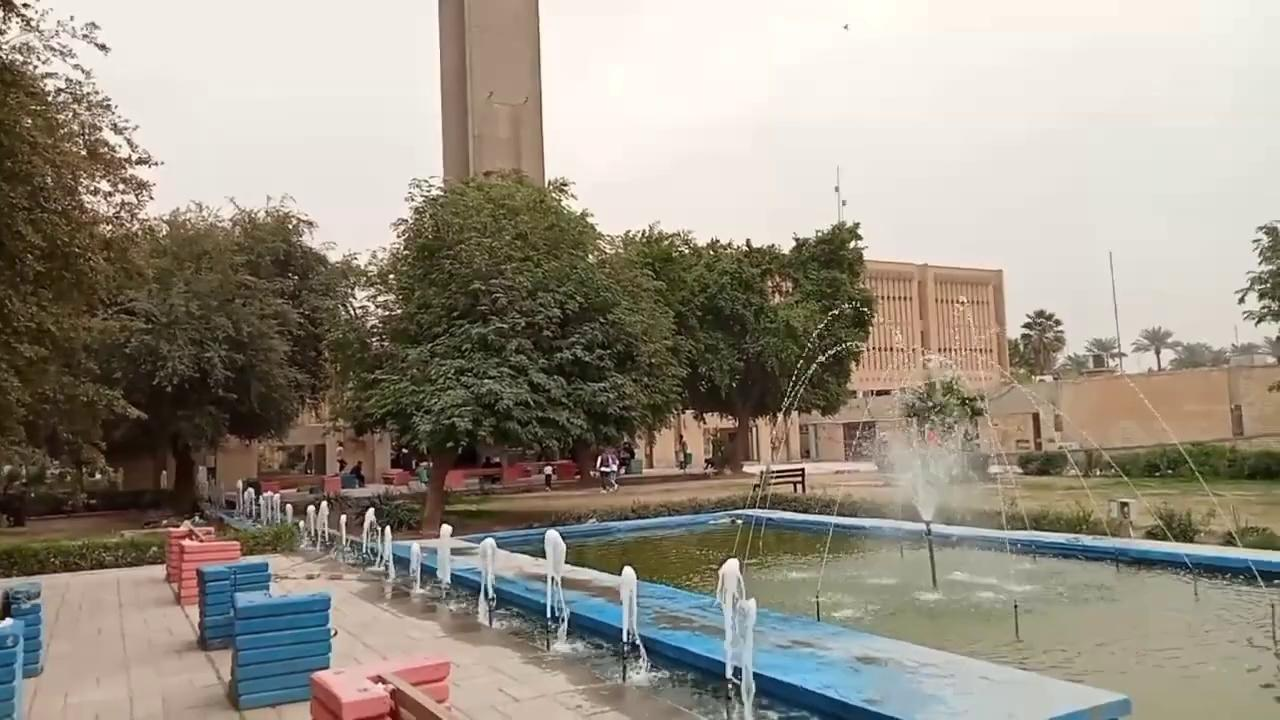fountain: (287, 499, 1134, 718)
person: (594, 446, 619, 494), (618, 440, 635, 474), (675, 433, 688, 470), (350, 459, 365, 487), (542, 460, 555, 491), (335, 440, 346, 473), (303, 451, 312, 475)
tree: (350, 166, 686, 536), (86, 192, 351, 518), (0, 0, 162, 506), (695, 219, 878, 468), (608, 221, 772, 471), (888, 353, 988, 483), (1234, 217, 1279, 392), (1018, 307, 1065, 375), (1130, 324, 1178, 370), (1083, 335, 1126, 368), (1170, 340, 1212, 368), (1062, 351, 1088, 372), (1207, 344, 1231, 366)
